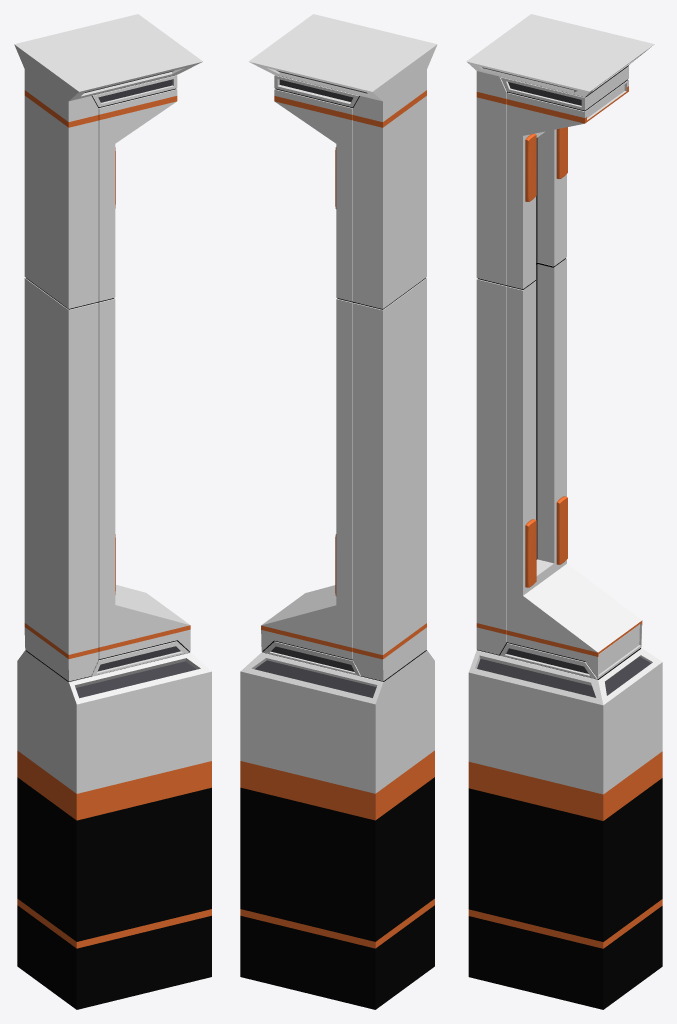
Rendered from WallDivider (w orange).fbx.
3 renders of one model, left to right at view 1: azimuth 30°, elevation 25°; view 2: azimuth 150°, elevation 25°; view 3: azimuth 330°, elevation 25°, orthographic.
Parts seen in each view (by area): view 1: Cube.002; view 2: Cube.002; view 3: Cube.002.
Boxes of the visible parts, x1,y1,x2,y2 form: Cube.002: (14,14,211,1009); Cube.002: (240,14,437,1009); Cube.002: (466,14,662,1009).
Size of the model in its own units: 637 by 4147 by 532.
